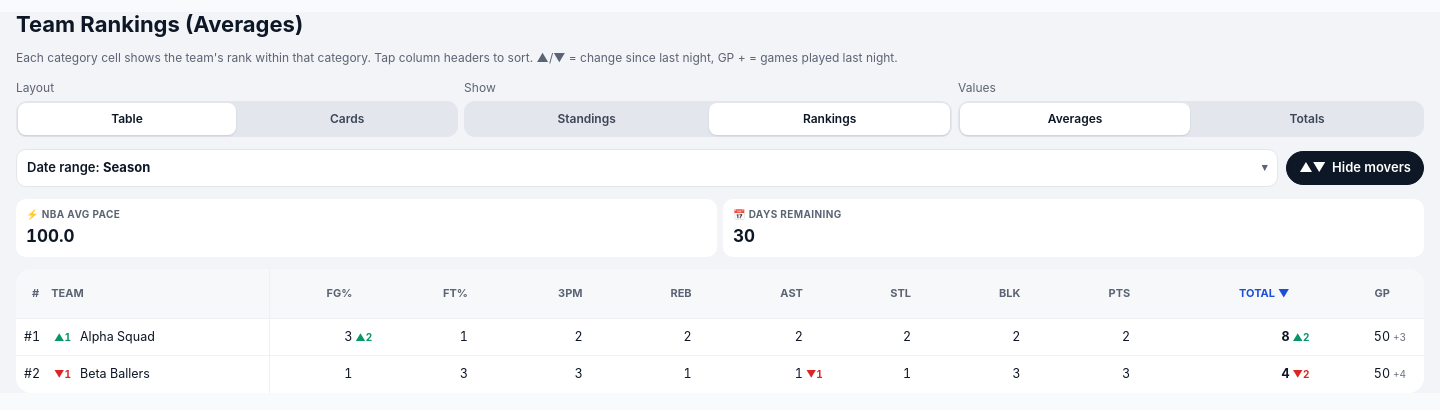
Test case: Rankings page — phone redesign › Totals standings show the grey stat added and the places moved beside a counting stat
This screenshot has width=1440, height=410.
Check: the table is shown, box [16,269,1424,393]
Click the radio button labelled "Standings" at (587, 119), box [466,103,707,135]
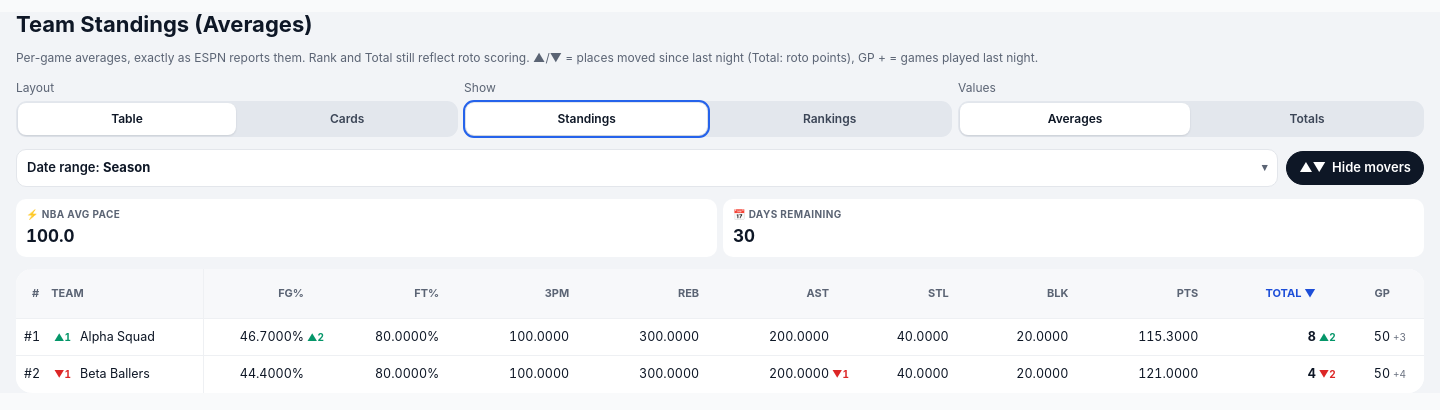
Click the radio button labelled "Totals" at (1307, 119), box [1192,103,1422,135]
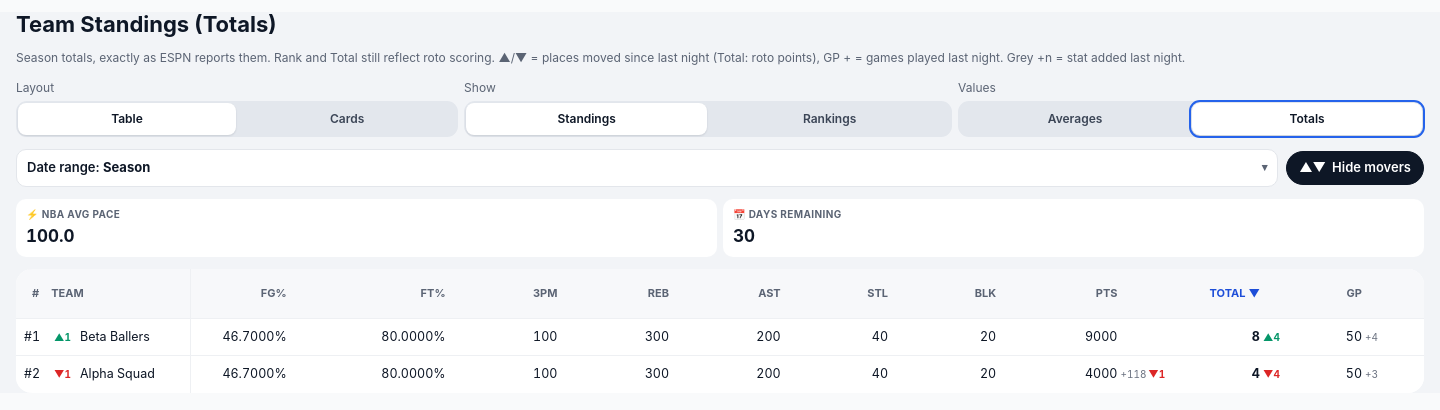
Check: the heading "Team Standings (Totals)" is shown, box [16,12,277,37]
Check: the text "Alpha Squad" shows "+118", box [16,355,1424,393]
Check: the cell "4000 +118▼1" is shown, box [1058,355,1179,393]
